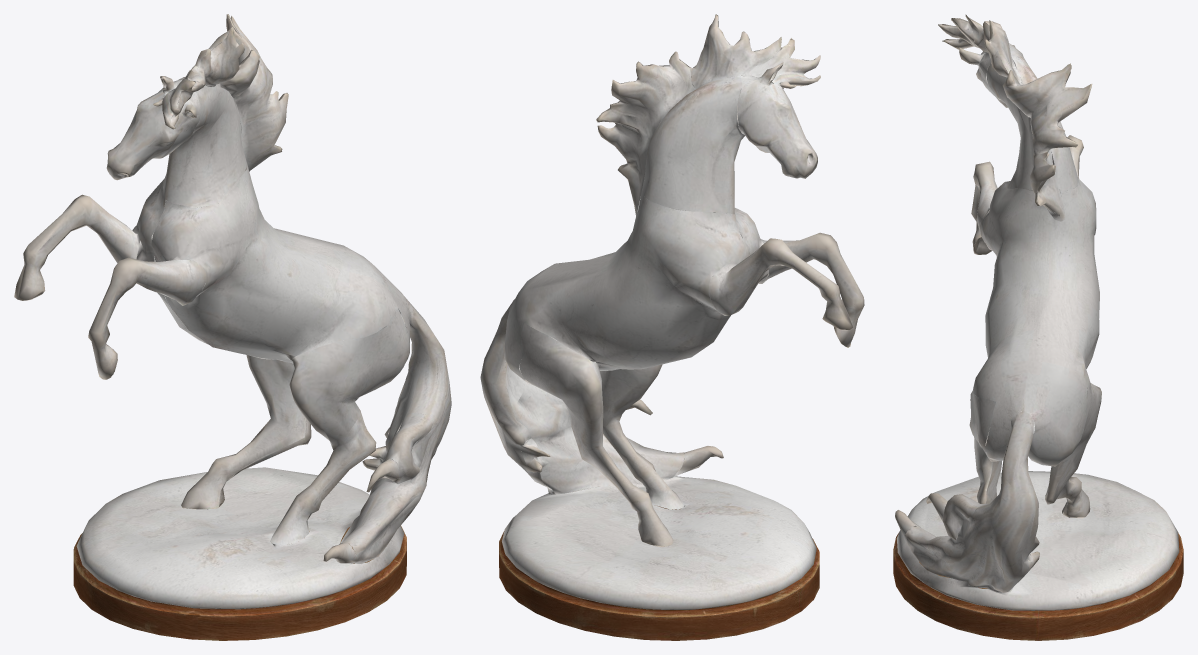
Rendered from horse_statue.glb.
The picture shows the model from 3 angles, left to right: view 1: azimuth 30°, elevation 25°; view 2: azimuth 150°, elevation 25°; view 3: azimuth 270°, elevation 25°; orthographic projection. The views are drawn at different scales.
Parts seen in each view (by area): view 1: horse_statue_01; view 2: horse_statue_01; view 3: horse_statue_01.
Part boxes in pixels (x1,y1,x2,y2): horse_statue_01: (14,14,451,640); horse_statue_01: (480,14,864,640); horse_statue_01: (893,14,1183,640).
Size of the model in its own units: 0.1629 by 0.22 by 0.1078.
Materials: 2 (2 with a texture image).
